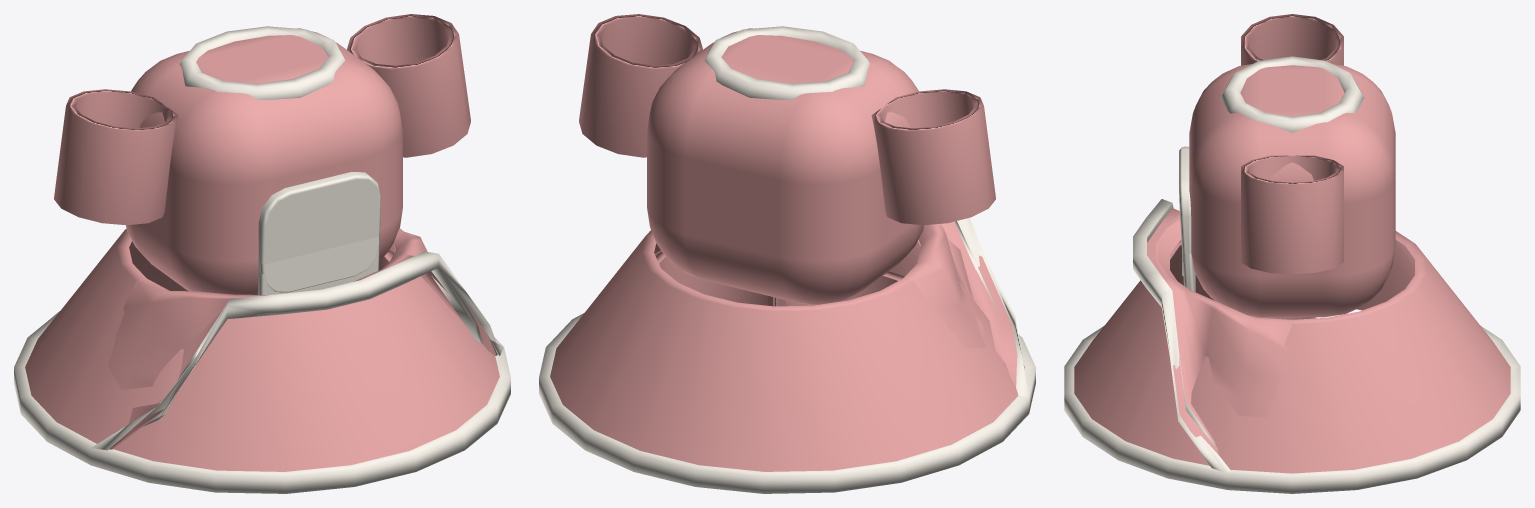
File: cafe_uniform_dress.glb
The picture shows the model from 3 angles, left to right: view 1: azimuth 30°, elevation 25°; view 2: azimuth 150°, elevation 25°; view 3: azimuth 270°, elevation 25°; orthographic projection. The views are drawn at different scales.
Parts seen in each view (by area): view 1: cafe_uniform_dress_Body, cafe_uniform_dress_Body_sit, cafe_uniform_dress_ArmL, cafe_uniform_dress_ArmR; view 2: cafe_uniform_dress_Body, cafe_uniform_dress_Body_sit, cafe_uniform_dress_ArmL, cafe_uniform_dress_ArmR, cafe_uniform_dress_LegR_sit, cafe_uniform_dress_LegL_sit; view 3: cafe_uniform_dress_Body, cafe_uniform_dress_Body_sit, cafe_uniform_dress_ArmR, cafe_uniform_dress_ArmL.
Boxes of the visible parts, x1,y1,x2,y2 form: cafe_uniform_dress_Body: [14, 26, 510, 493]; cafe_uniform_dress_Body_sit: [91, 59, 503, 450]; cafe_uniform_dress_ArmL: [54, 89, 178, 225]; cafe_uniform_dress_ArmR: [347, 14, 470, 157]; cafe_uniform_dress_Body: [539, 26, 1035, 493]; cafe_uniform_dress_Body_sit: [647, 59, 1028, 396]; cafe_uniform_dress_ArmL: [871, 89, 995, 225]; cafe_uniform_dress_ArmR: [579, 14, 702, 157]; cafe_uniform_dress_LegR_sit: [654, 250, 777, 306]; cafe_uniform_dress_LegL_sit: [773, 271, 904, 306]; cafe_uniform_dress_Body: [1064, 56, 1520, 493]; cafe_uniform_dress_Body_sit: [1133, 115, 1414, 473]; cafe_uniform_dress_ArmR: [1241, 155, 1343, 274]; cafe_uniform_dress_ArmL: [1241, 14, 1343, 65].
Size of the model in its own units: 0.648 by 0.5289 by 0.6414.
